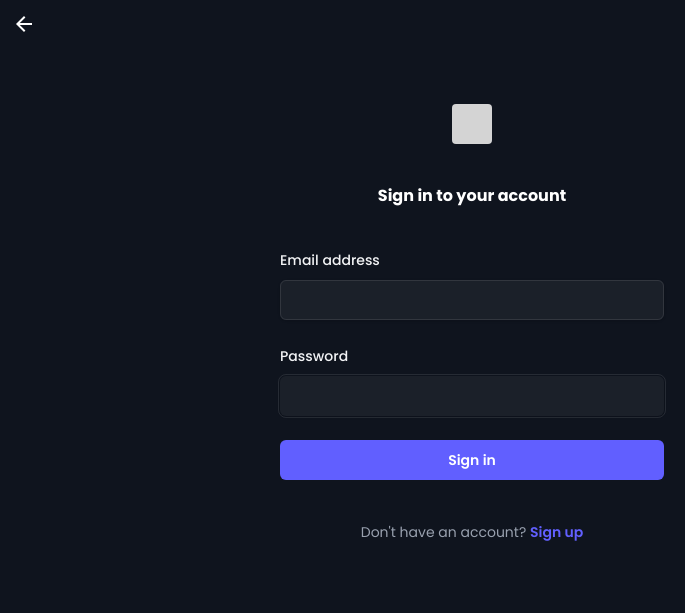
Scenario: Login Component › should display loading indicator when loading
Type "luka@gmail.com" into the field with test id "email-input". click: (472, 300)
box: [280,280,664,320]
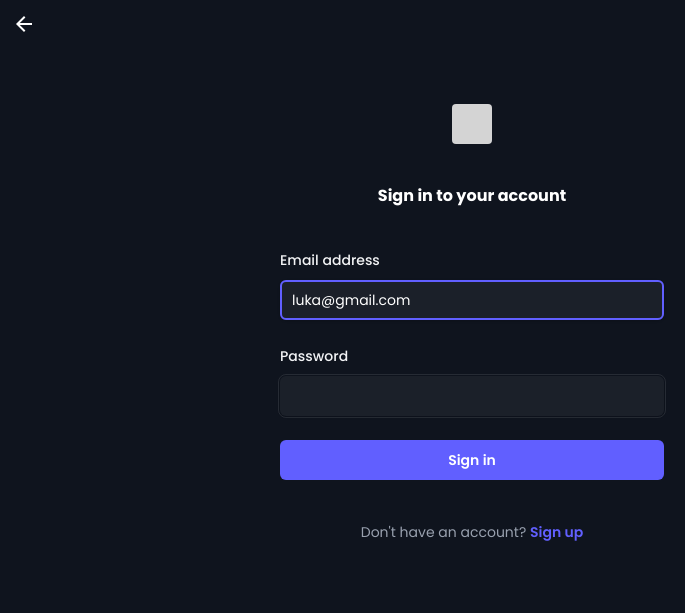
Type "password" into the password field with test id "password-input". click: (472, 396)
box: [280,376,664,416]
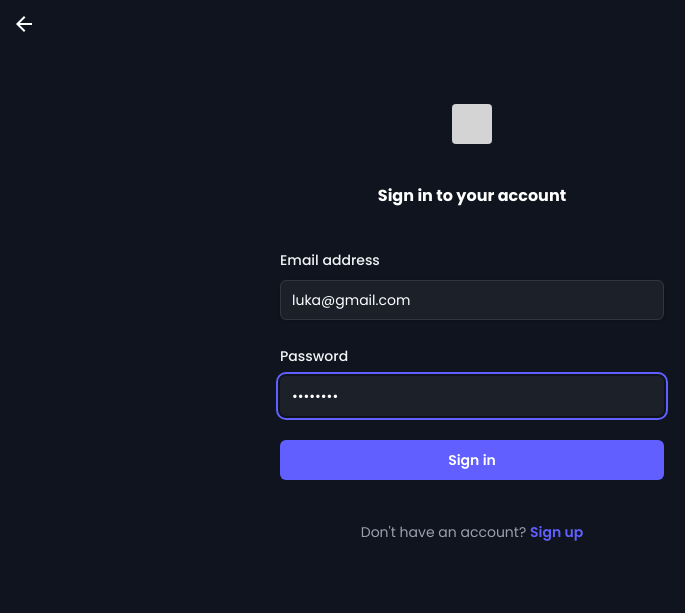
Click the button with test id "sign-in-button". click: (472, 460)
box: [280,440,664,480]
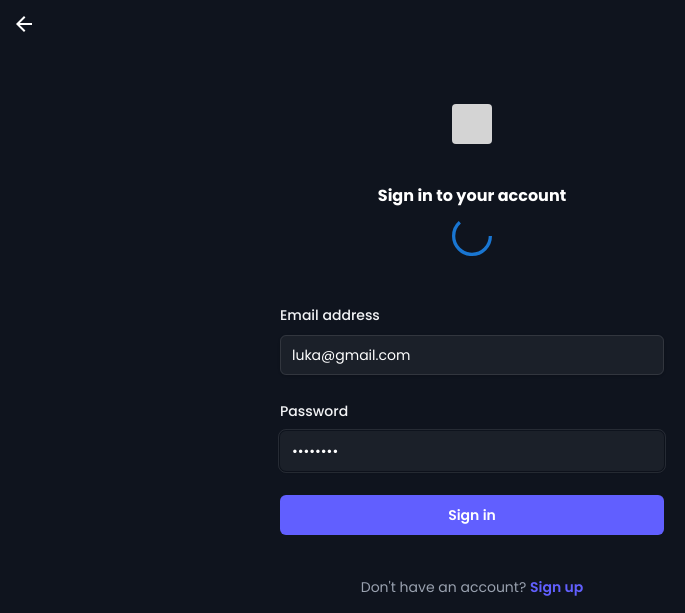
Expected: the progress indicator is shown, [452,216,492,256]
